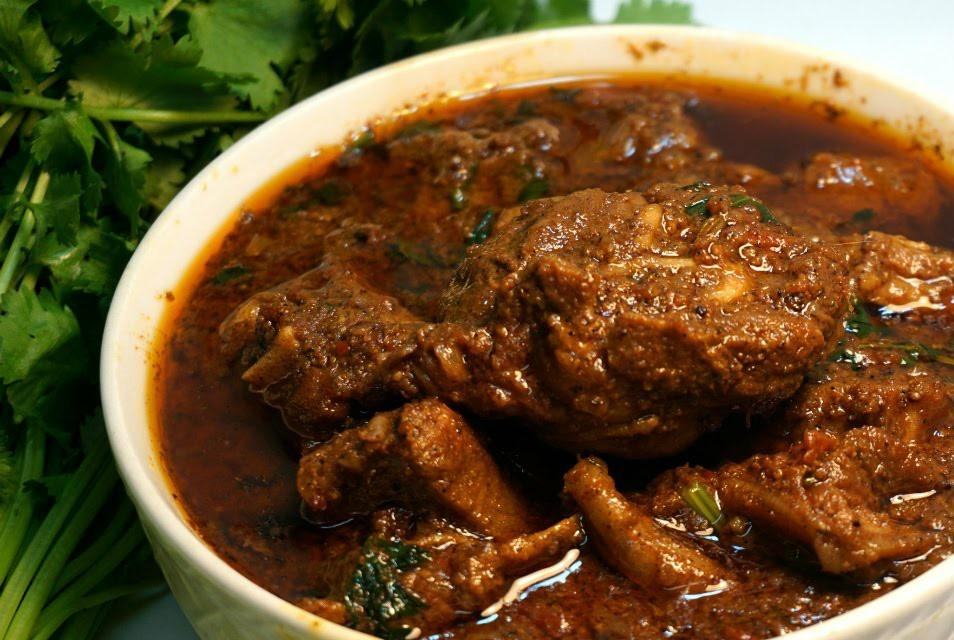MuttonCurry: (155, 71, 954, 640)
